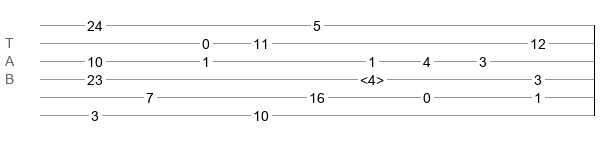0: (202, 36, 210, 46), (423, 90, 431, 100)
1: (202, 54, 210, 64), (368, 54, 376, 64), (534, 90, 542, 100)
10: (87, 54, 103, 64), (253, 108, 269, 118)
11: (253, 36, 269, 46)
12: (530, 36, 546, 46)
16: (309, 90, 325, 100)
23: (87, 72, 103, 82)
24: (87, 18, 103, 28)
3: (91, 108, 99, 118), (479, 54, 487, 64), (534, 72, 542, 82)
4: (423, 54, 431, 64)
5: (313, 18, 321, 28)
7: (146, 90, 154, 100)
harmonic: (360, 72, 384, 82)
